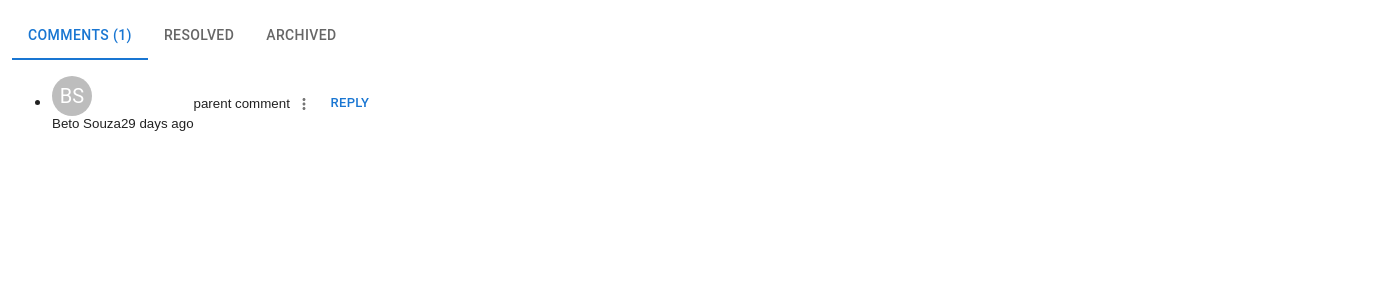
Test: <CommentsPanel /> replies › reply flow: Reply → focused field → Enter sends → refetched row lands, composer closes
Expected: the text "parent comment" is shown, [194,96,290,111]
Click the button "Reply".
click(350, 104)  # box [318,88,382,119]
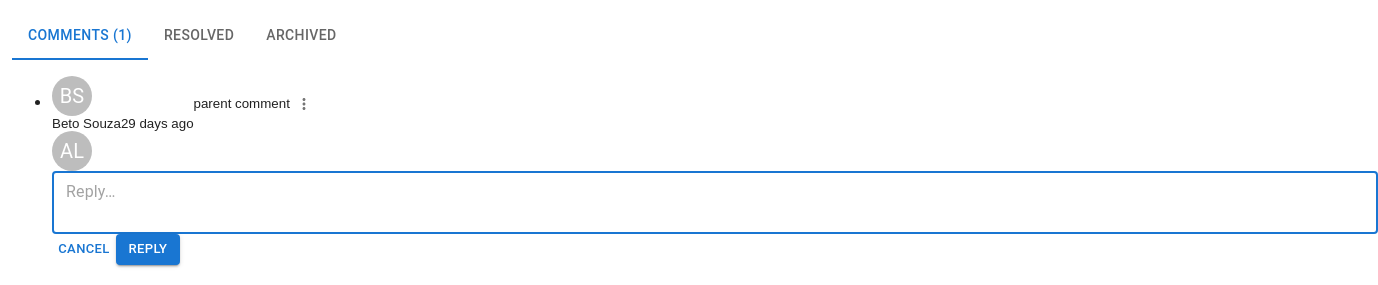
Type "agreed" into the text box named "Reply text".
click(715, 202); type("agreed")  # box [66,180,1364,226]
Then press Enter
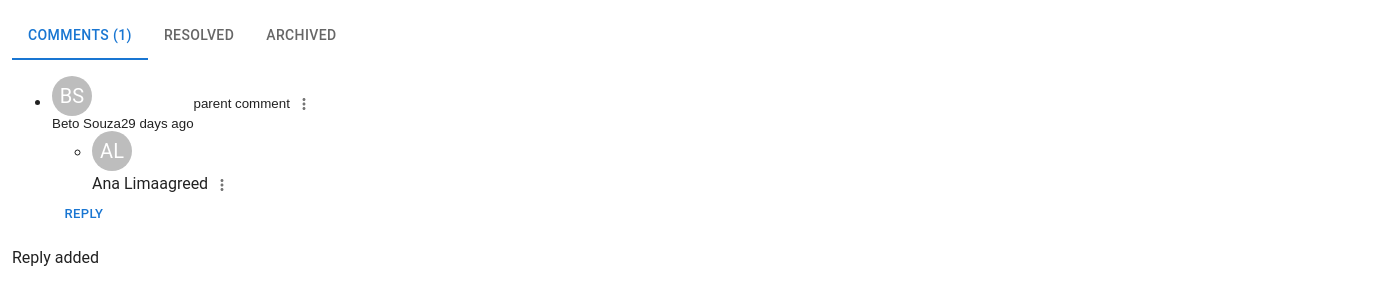
Now the text "agreed" is shown, box [159,174,208,193]
